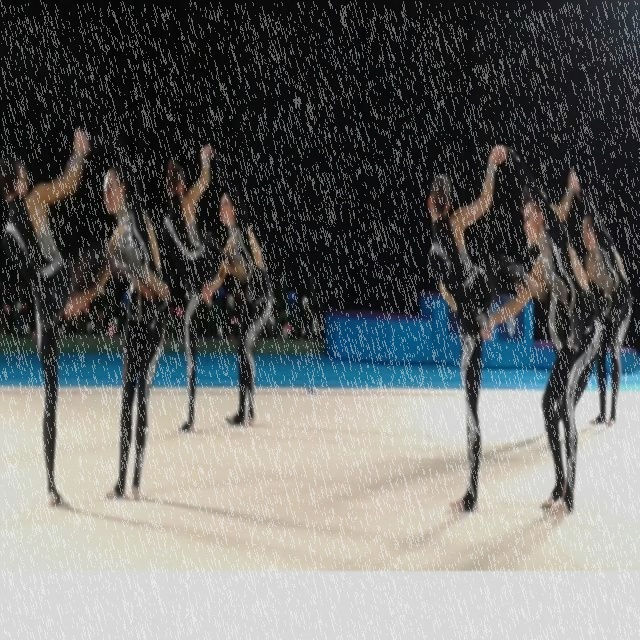pessoa: (476, 165, 603, 522), (426, 142, 527, 516), (62, 147, 169, 499), (1, 109, 92, 507), (156, 142, 245, 439), (0, 264, 325, 340), (198, 166, 278, 432), (522, 168, 600, 438), (566, 160, 633, 430)
